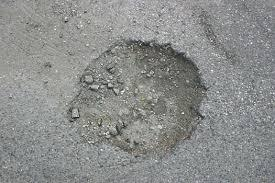pothole: (69, 24, 211, 175)
